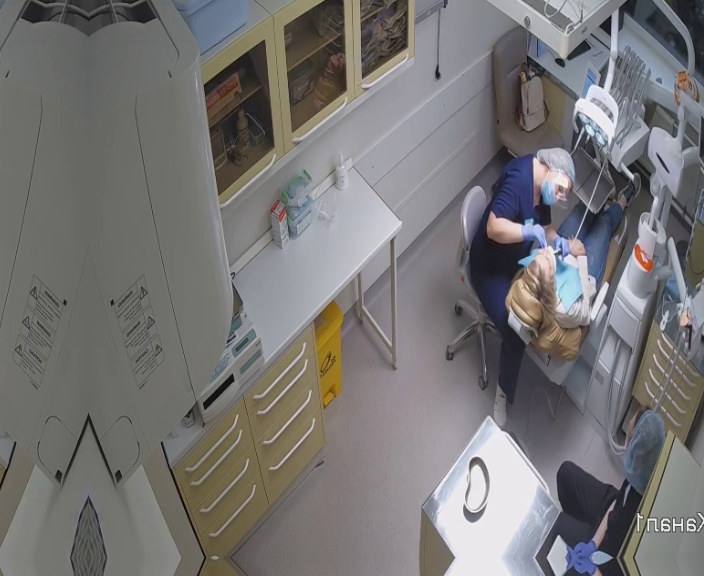Patient: (504, 178, 641, 368)
